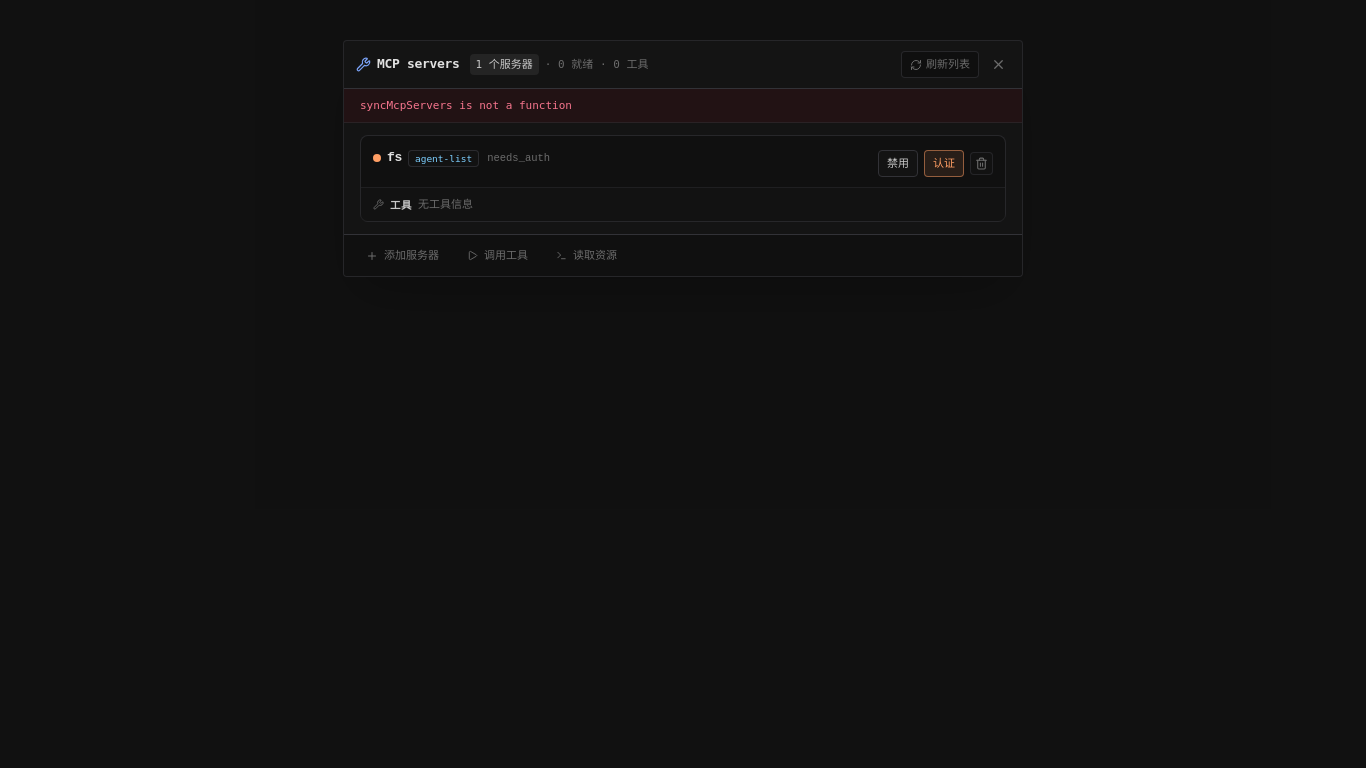
Test: McpPanel — 管理操作 › 认证触发 → 渲染 url/code/message
Click the button "认证": coordinates (944, 164) [924,150,964,177]
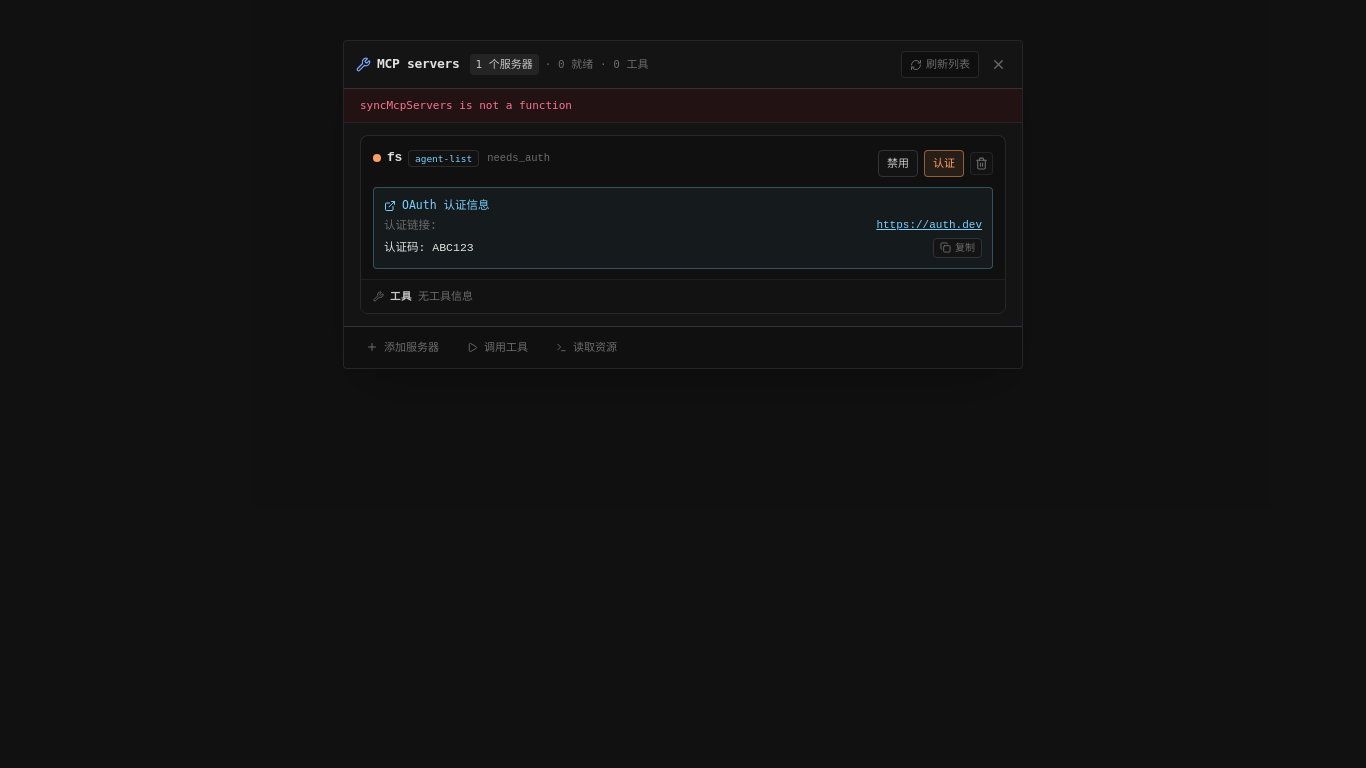
Result: the text "认证码: ABC123" is shown at [384,240,474,256]
